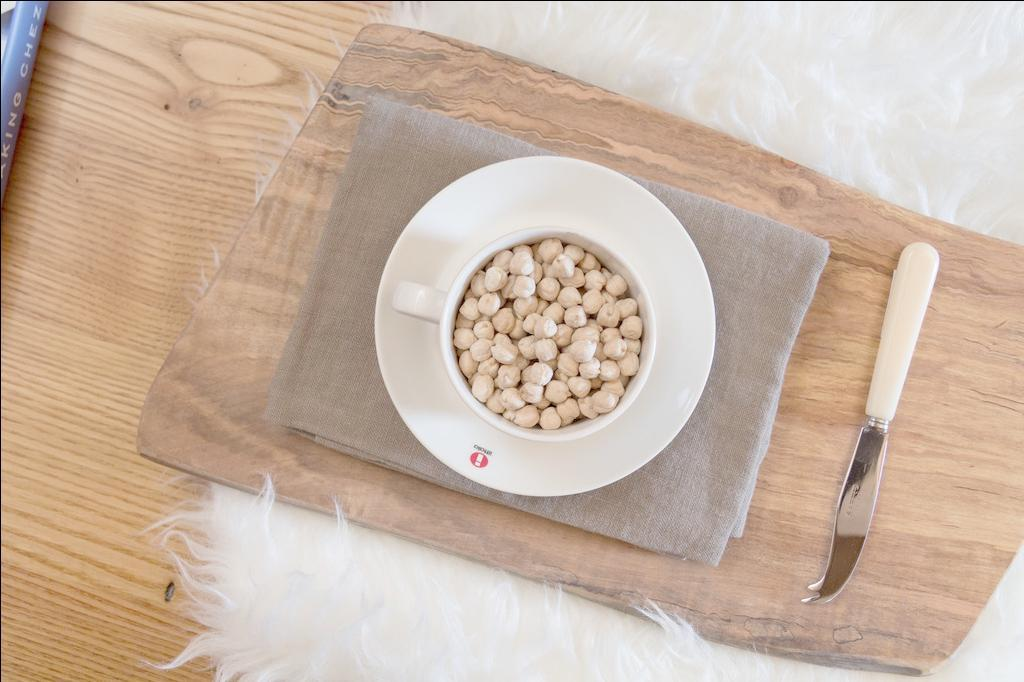melee: (797, 230, 947, 613)
